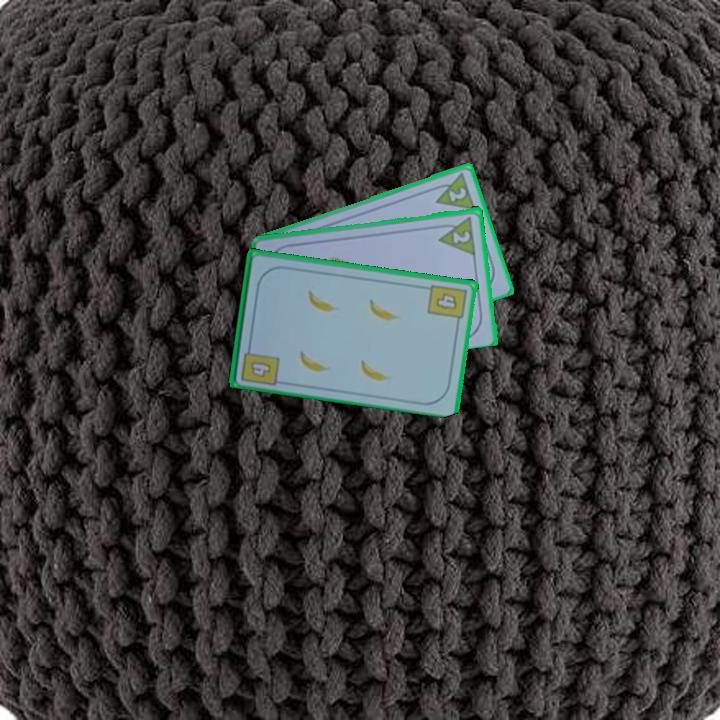2p: (445, 183, 469, 204), (449, 227, 473, 246)
4b: (238, 339, 282, 388), (425, 281, 470, 327)
